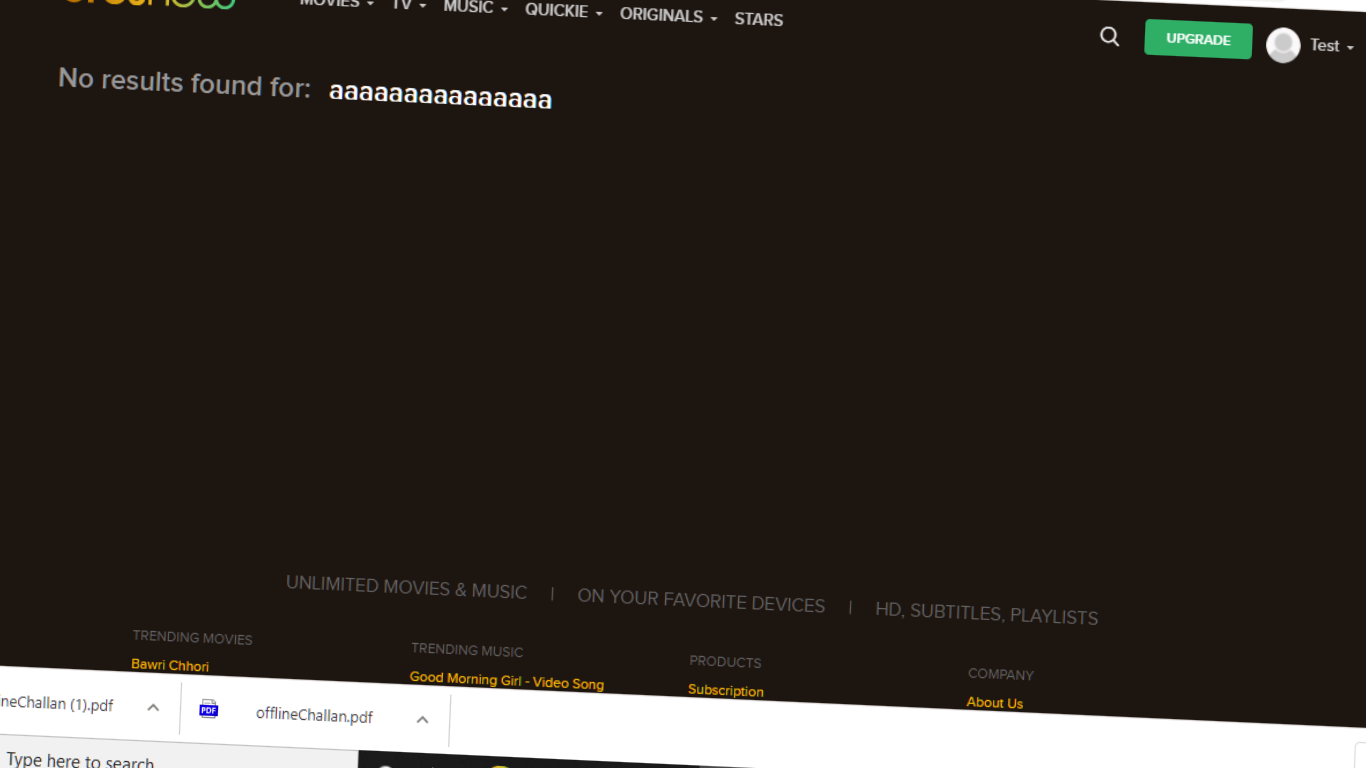noresultsfound: (51, 51, 582, 129)
profileicon: (1260, 14, 1360, 74)
searchicon: (1088, 8, 1133, 64)
